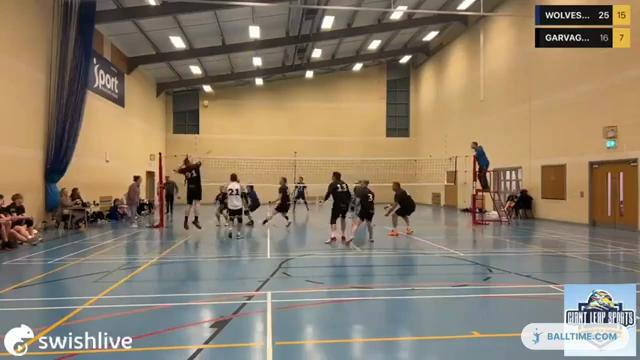Attack: (172, 149, 213, 230)
Player: (324, 171, 350, 243), (346, 180, 374, 245), (385, 182, 415, 235), (262, 177, 290, 226), (227, 173, 246, 238), (244, 185, 260, 225), (215, 186, 228, 226), (293, 176, 308, 210), (349, 180, 361, 219)
ball: (202, 98, 212, 110)
